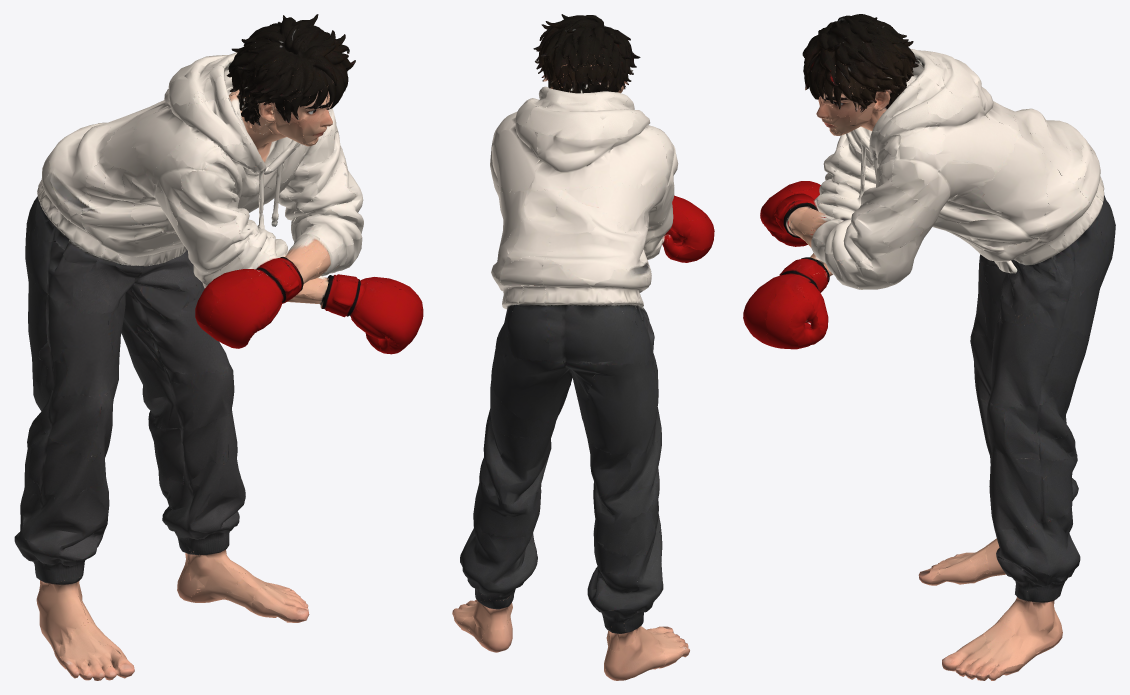
File: elbow-rest.glb
3 renders of one model, left to right at view 1: azimuth 30°, elevation 25°; view 2: azimuth 150°, elevation 25°; view 3: azimuth 270°, elevation 25°, orthographic. The views are drawn at different scales.
Parts seen in each view (by area): view 1: CH_BalconyRest; view 2: CH_BalconyRest; view 3: CH_BalconyRest.
Part boxes in pixels (x1=…): CH_BalconyRest: x1=14, y1=14, x2=423, y2=680; CH_BalconyRest: x1=452, y1=14, x2=714, y2=680; CH_BalconyRest: x1=743, y1=14, x2=1115, y2=680.
Size of the model in its own units: 0.7516 by 1.72 by 0.9254.
Materials: 1 (1 with a texture image).
